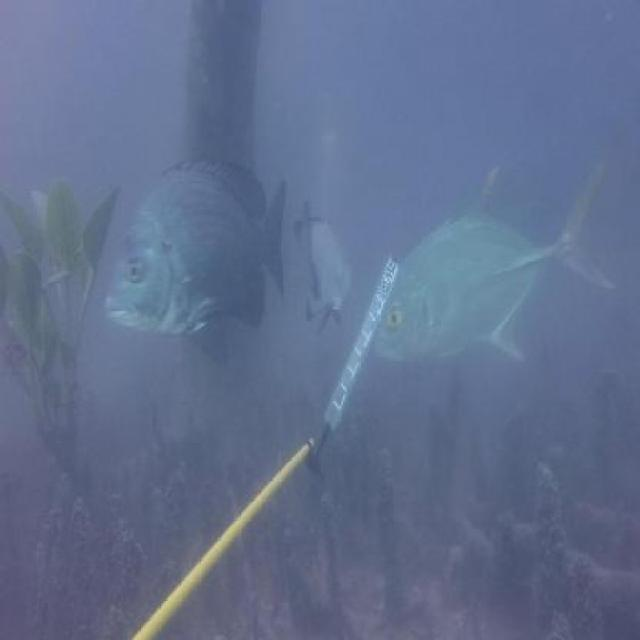Caranx: (373, 153, 619, 369)
acanthopagrus_palmaris: (100, 153, 289, 369), (291, 193, 354, 339)
